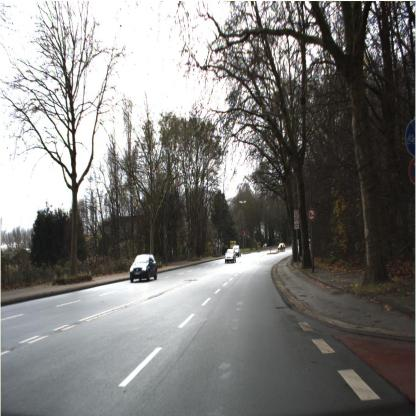mandatory: (399, 117, 415, 157)
prohibitory: (308, 207, 318, 221)
